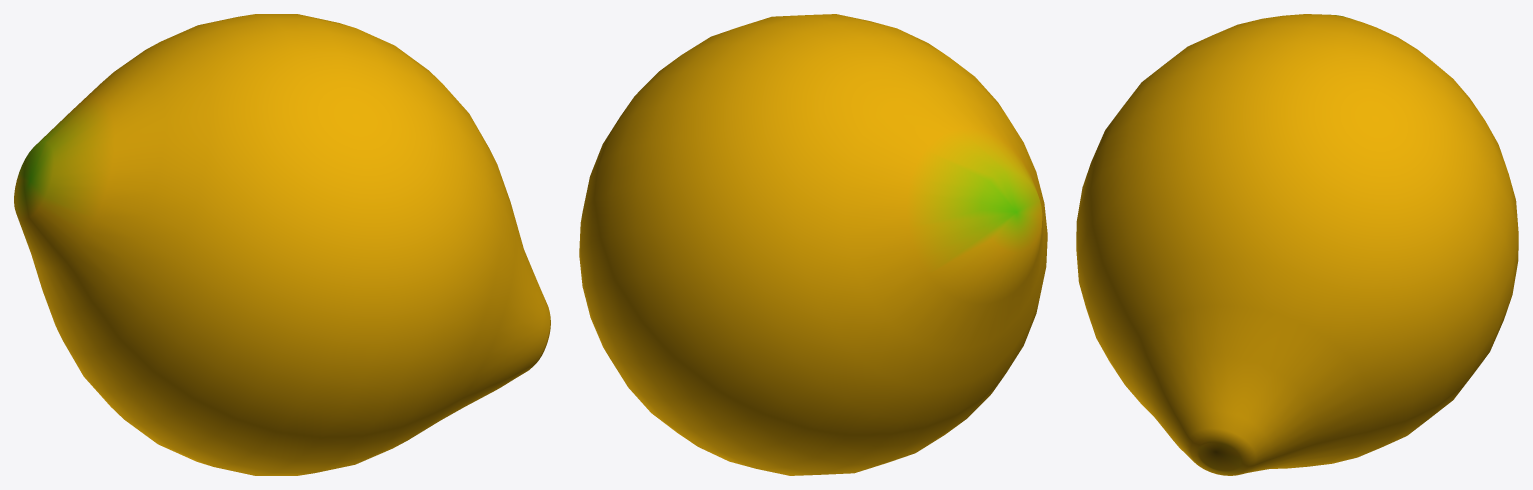
File: lemon.fbx
3 views of the same model, side by side, from view 1: azimuth 30°, elevation 25°; view 2: azimuth 150°, elevation 25°; view 3: azimuth 270°, elevation 25° (orthographic). The views are drawn at different scales.
Visible parts, largest first — view 1: Sphere; view 2: Sphere; view 3: Sphere.
Boxes of the visible parts, <box> form: Sphere: <box>14,14,550,475</box>; Sphere: <box>579,14,1047,475</box>; Sphere: <box>1076,14,1518,475</box>.
Bounding box in the file's own units: 224 × 192 × 191.
